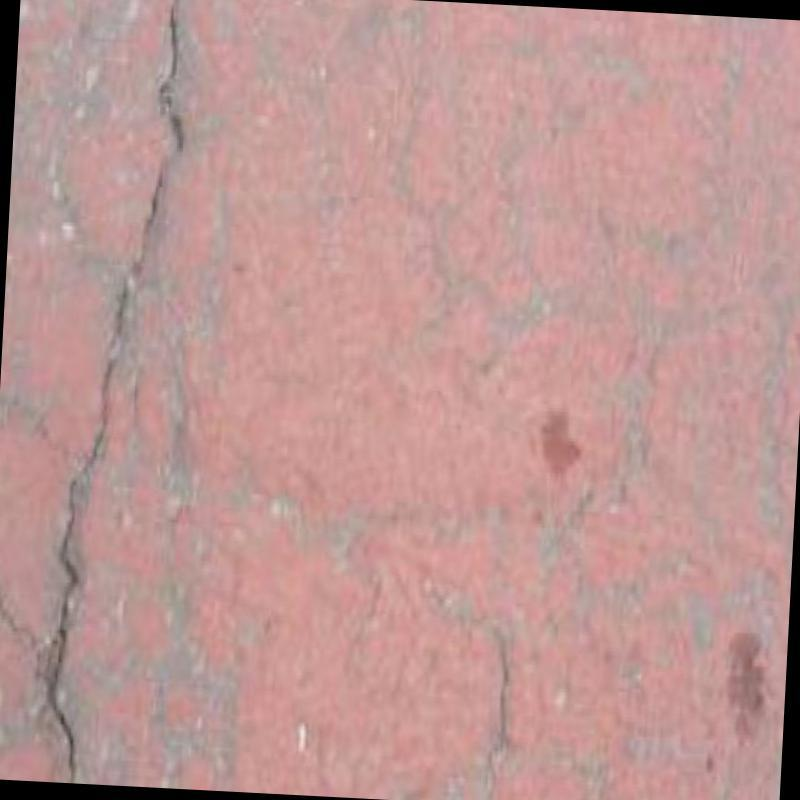pothole: (42, 0, 183, 782)
